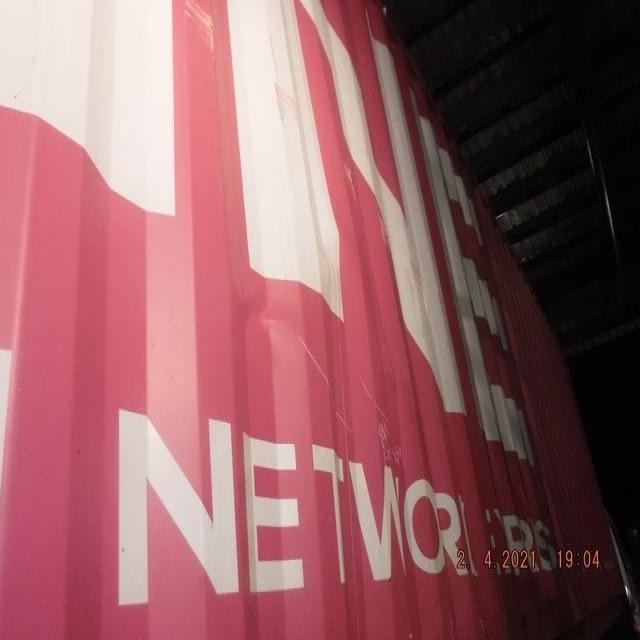Minor-Dent: (189, 151, 421, 423)
